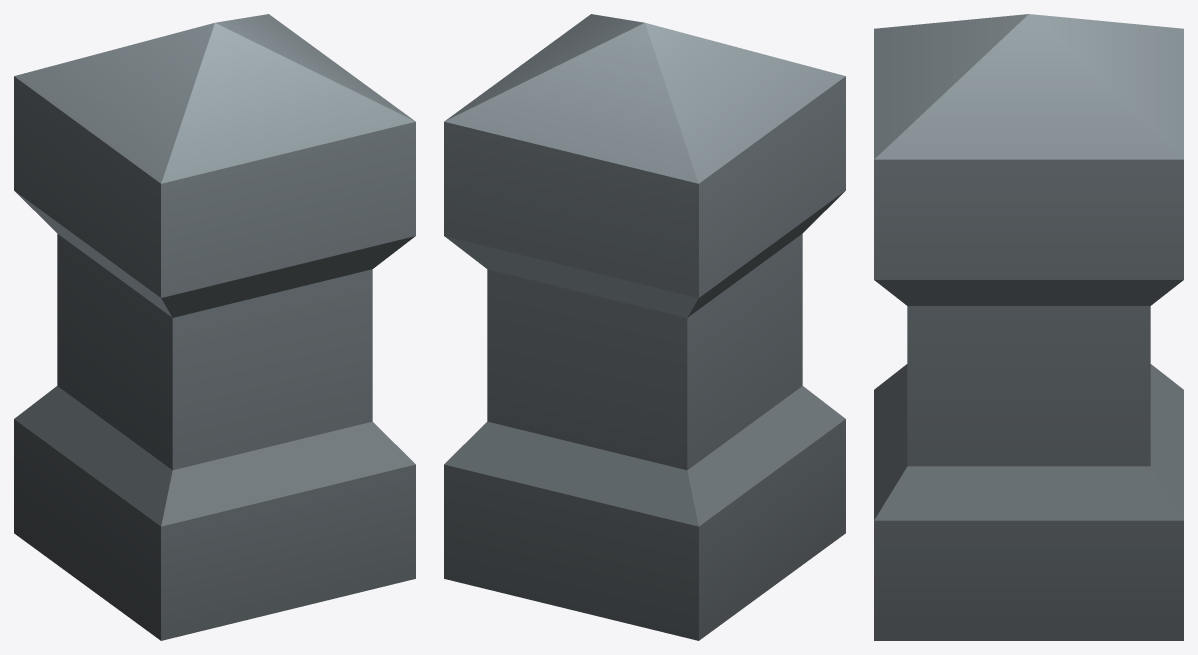
The model's file is column.fbx.
3 renders of one model, left to right at view 1: azimuth 30°, elevation 25°; view 2: azimuth 150°, elevation 25°; view 3: azimuth 270°, elevation 25°, orthographic. The views are drawn at different scales.
Parts seen in each view (by area): view 1: column; view 2: column; view 3: column.
Boxes of the visible parts, box(x1,y1,x2,y2) form: column: box(14, 14, 415, 640); column: box(444, 14, 845, 640); column: box(874, 14, 1183, 640).
Size of the model in its own units: 70 by 140 by 70.
1 material, 1 textured.
